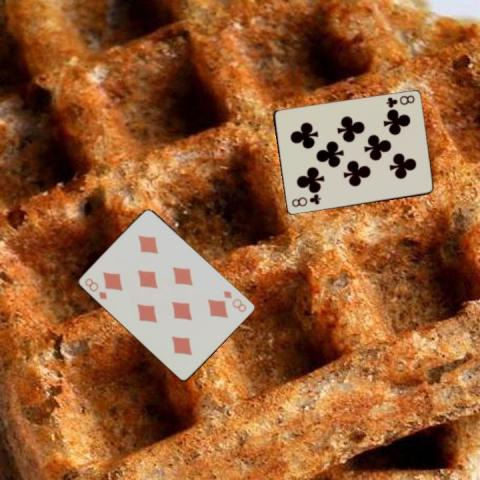8c: (289, 192, 322, 208), (383, 93, 416, 109)
8d: (221, 288, 248, 314), (82, 275, 109, 301)
